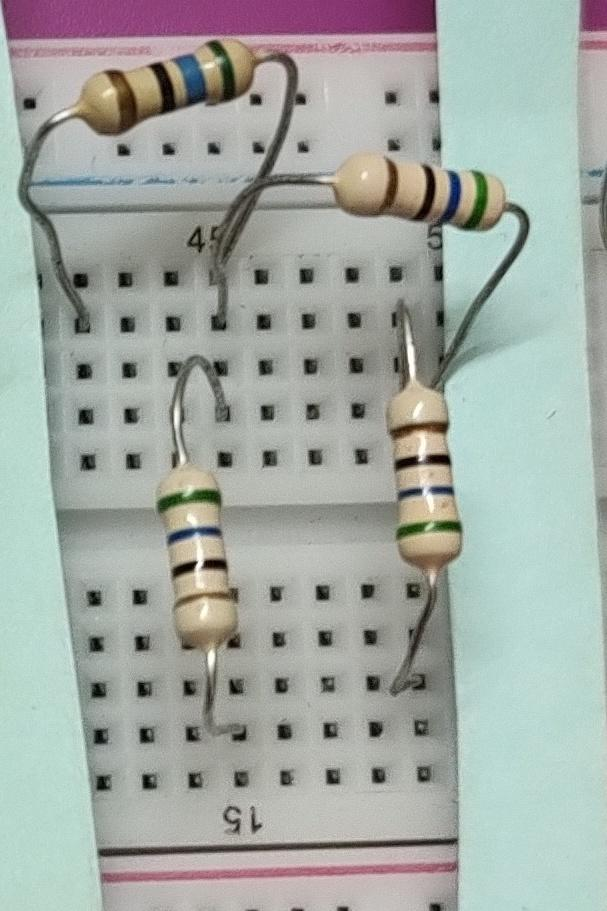resistor: (134, 450, 269, 688), (375, 370, 500, 574), (70, 35, 273, 145), (320, 137, 522, 247)
